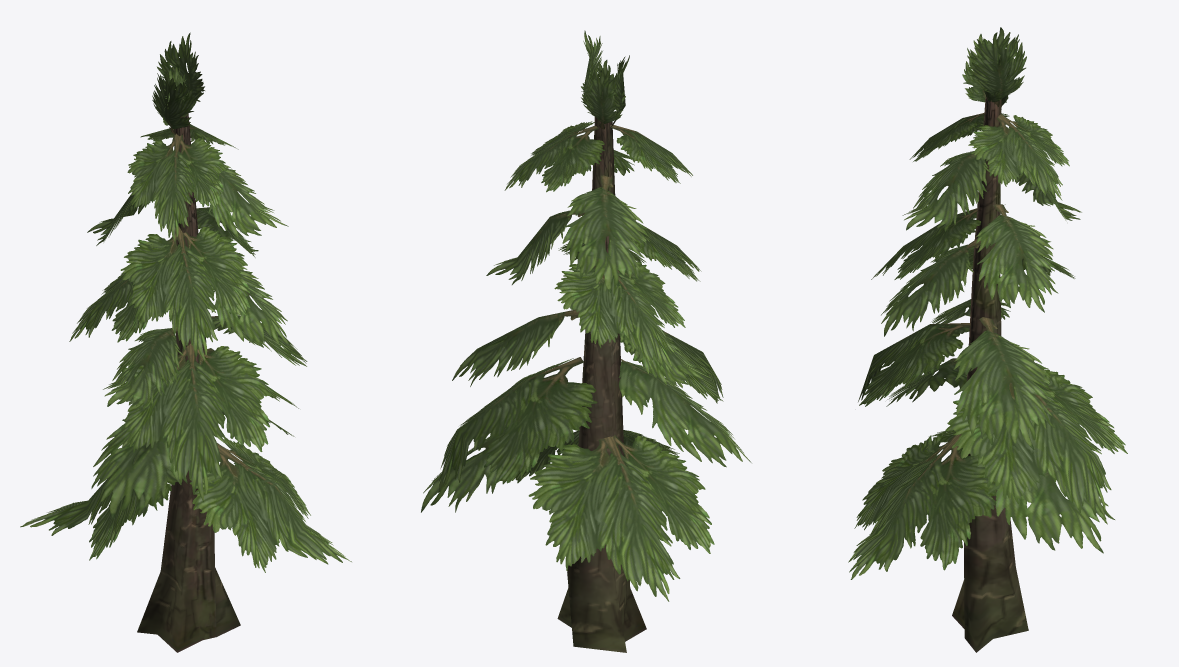
The model's file is pineLOD.fbx.
3 views of the same model, side by side, from view 1: azimuth 30°, elevation 25°; view 2: azimuth 150°, elevation 25°; view 3: azimuth 270°, elevation 25° (orthographic). The views are drawn at different scales.
Visible parts, largest first — view 1: Pine_LOD0; view 2: Pine_LOD0; view 3: Pine_LOD0.
Boxes of the visible parts, bbox=[...] form: Pine_LOD0: bbox=[20, 32, 351, 652]; Pine_LOD0: bbox=[421, 30, 751, 652]; Pine_LOD0: bbox=[848, 27, 1127, 652].
Size of what is drawn, in the model's own units: 228 by 412 by 219.
